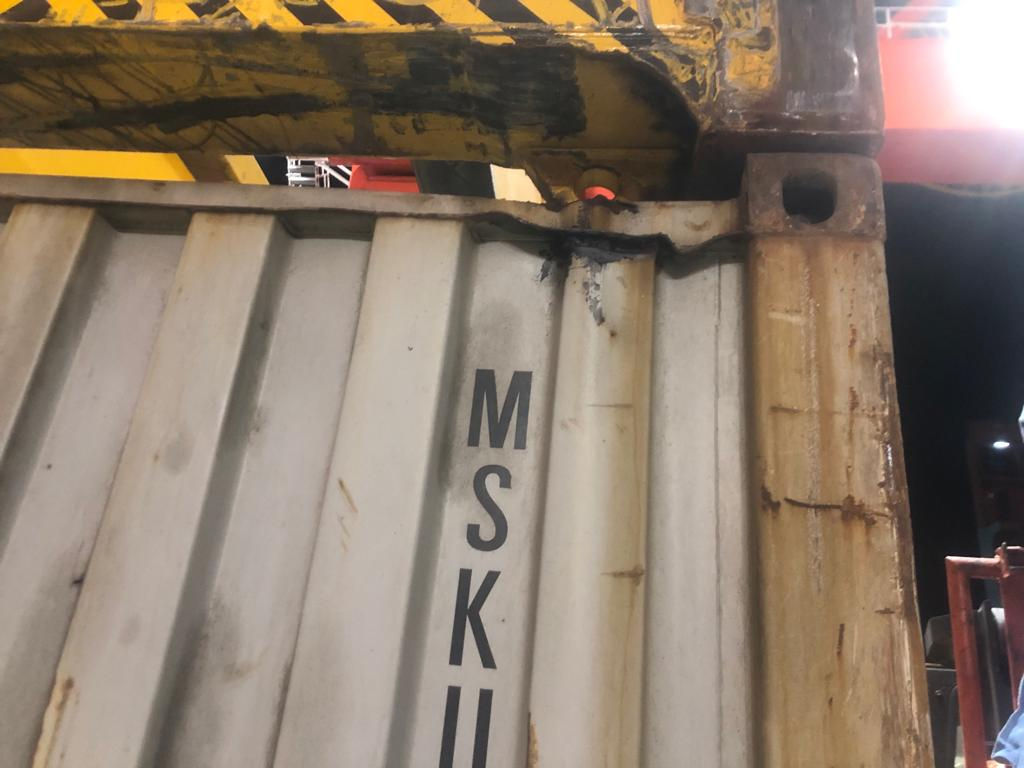dented: (482, 194, 744, 303)
